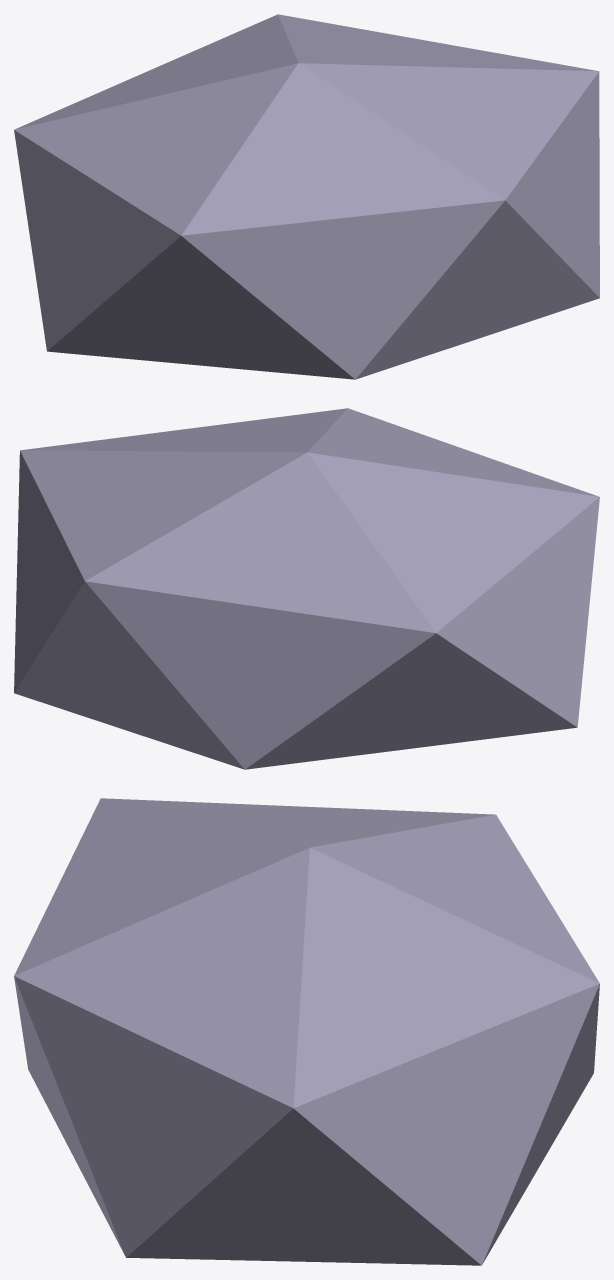
File: stone_tile_1.glb
3 renders of one model, top to bottom at view 1: azimuth 30°, elevation 25°; view 2: azimuth 150°, elevation 25°; view 3: azimuth 270°, elevation 25°, orthographic. The views are drawn at different scales.
Visible parts, largest first — view 1: stone_tile_1; view 2: stone_tile_1; view 3: stone_tile_1.
Part boxes in pixels (x1=…): stone_tile_1: x1=14, y1=14, x2=599, y2=379; stone_tile_1: x1=14, y1=408, x2=599, y2=769; stone_tile_1: x1=14, y1=798, x2=599, y2=1265.
Bounding box in the file's own units: 0.8056 × 0.4155 × 0.6166.
